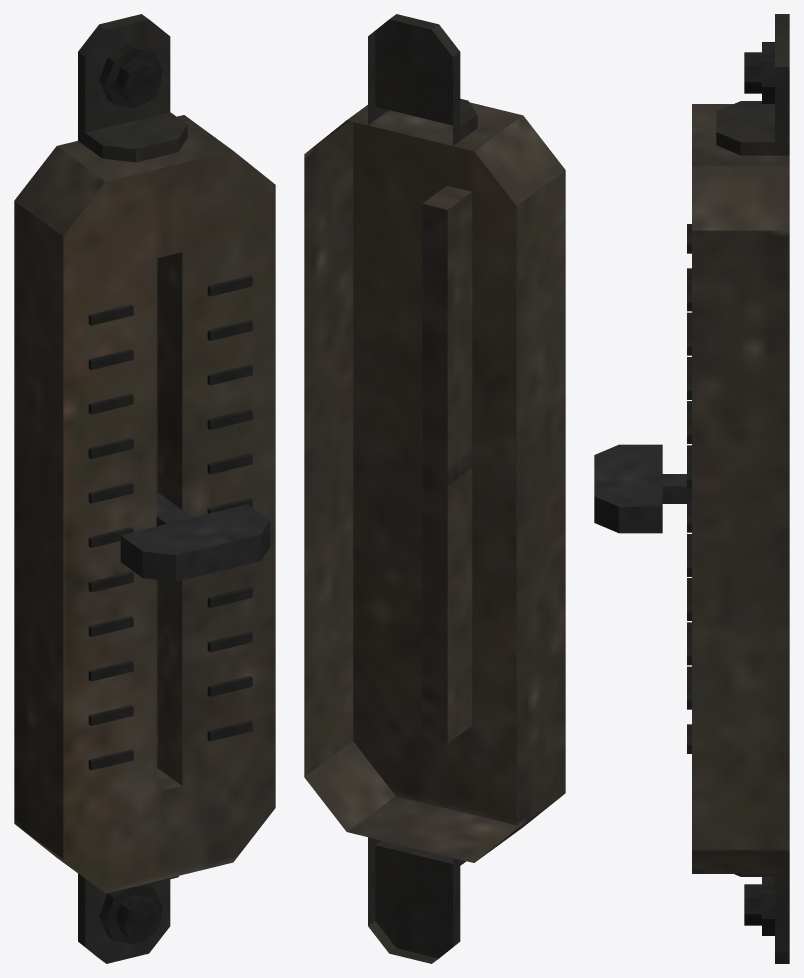
The model's file is fader_etx_1_1.obj.
3 renders of one model, left to right at view 1: azimuth 30°, elevation 25°; view 2: azimuth 150°, elevation 25°; view 3: azimuth 270°, elevation 25°, orthographic.
Parts seen in each view (by area): view 1: fader_etx_1_1, fader_etx_1_1_child; view 2: fader_etx_1_1; view 3: fader_etx_1_1, fader_etx_1_1_child.
Part boxes in pixels (bbox=[...]): fader_etx_1_1: bbox=[14, 14, 275, 963]; fader_etx_1_1_child: bbox=[120, 492, 269, 581]; fader_etx_1_1: bbox=[304, 14, 565, 963]; fader_etx_1_1: bbox=[687, 14, 789, 963]; fader_etx_1_1_child: bbox=[594, 444, 691, 533].
Size of the model in its own units: 0.09 by 0.378 by 0.072.
